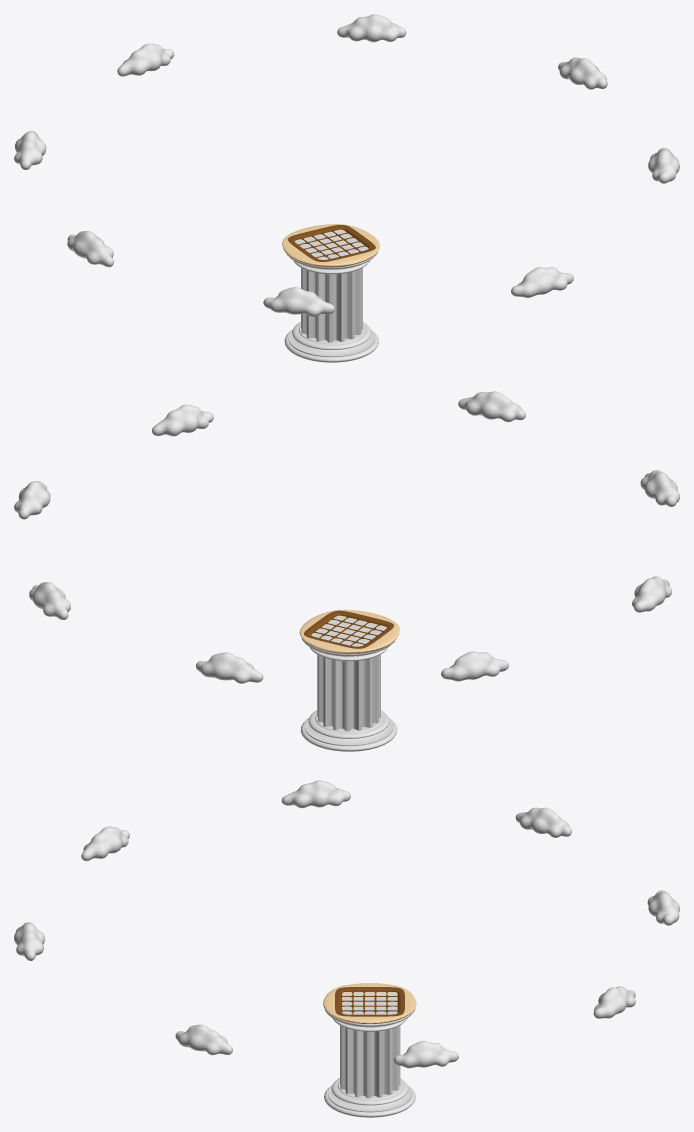
The model's file is stand3 1.fbx.
The picture shows the model from 3 angles, top to bottom: view 1: azimuth 30°, elevation 25°; view 2: azimuth 150°, elevation 25°; view 3: azimuth 270°, elevation 25°; orthographic projection. The views are drawn at different scales.
Visible parts, largest first — view 1: Plane; view 2: Plane; view 3: Plane.
Boxes of the visible parts, x1,y1,x2,y2 form: Plane: (14, 14, 679, 362); Plane: (14, 391, 679, 751); Plane: (14, 780, 679, 1117).
Bounding box in the file's own units: 5216 × 1698 × 5371.
